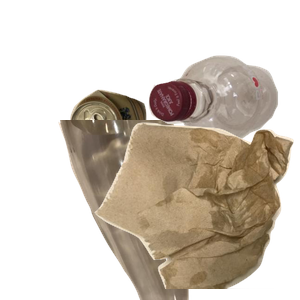glass: (56, 120, 241, 300)
metal: (67, 87, 206, 234)
plastic: (146, 53, 300, 187)
trash: (92, 120, 300, 300)
